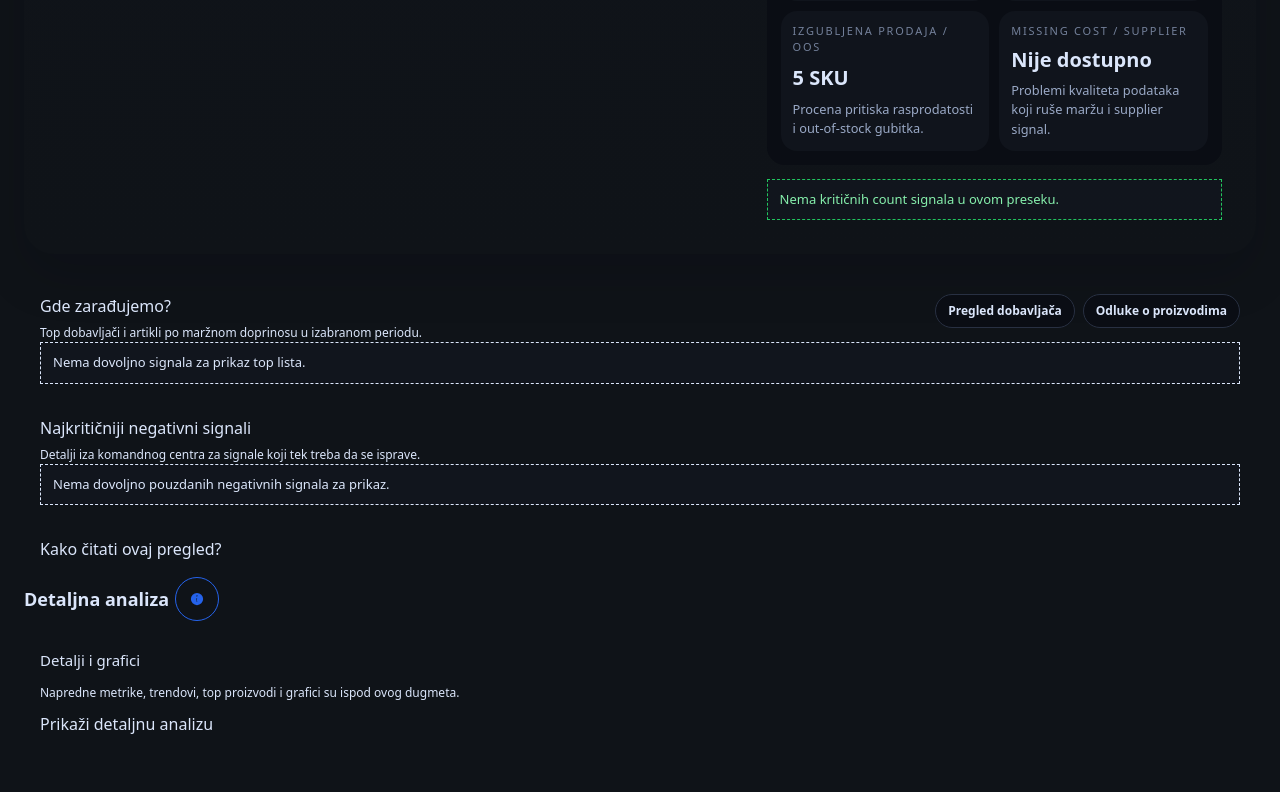
it: AnalyticsDashboard table system › preserves genuine zero trend as measured neutral (not in gainers or losers)
The image size is (1280, 792).
(page scrolled)
Click the button "Prikaži detaljnu analizu" at point(127, 724), box [40,712,213,736]
(page scrolled)
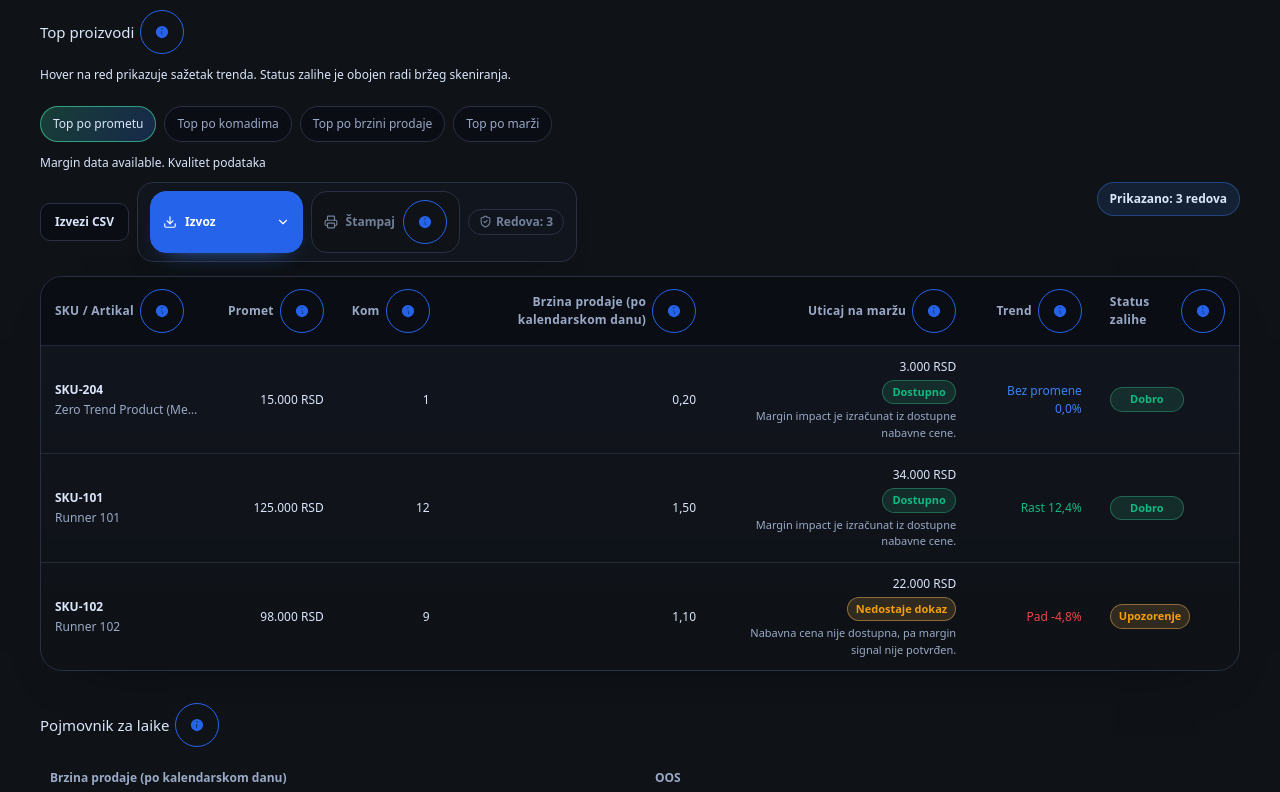
Expected: the text "Zero Trend Product (Measured)" shows "Bez promene", [1007,382,1082,399]
